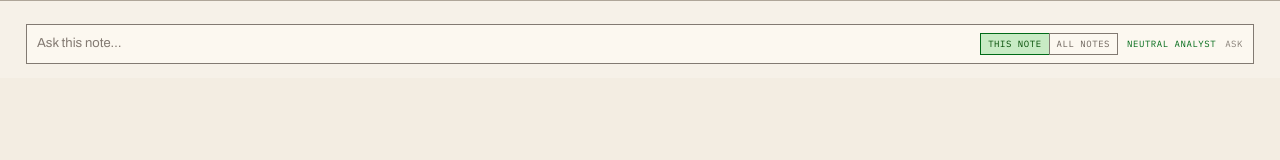
Test: ChatPanel — scope › starts on this note and switches to all notes
The image size is (1280, 160).
Expected: the radio button labelled "This note" is checked, left=980, top=33, right=1050, bottom=54
Click the radio button labelled "All notes". click: (1083, 44)
box: left=1049, top=33, right=1118, bottom=54
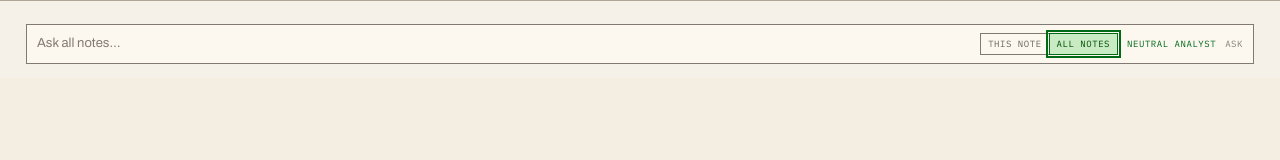
Expected: the radio button labelled "All notes" is checked, left=1049, top=33, right=1118, bottom=54
Expected: the field labelled "Ask all notes…" is shown, left=37, top=34, right=971, bottom=54
